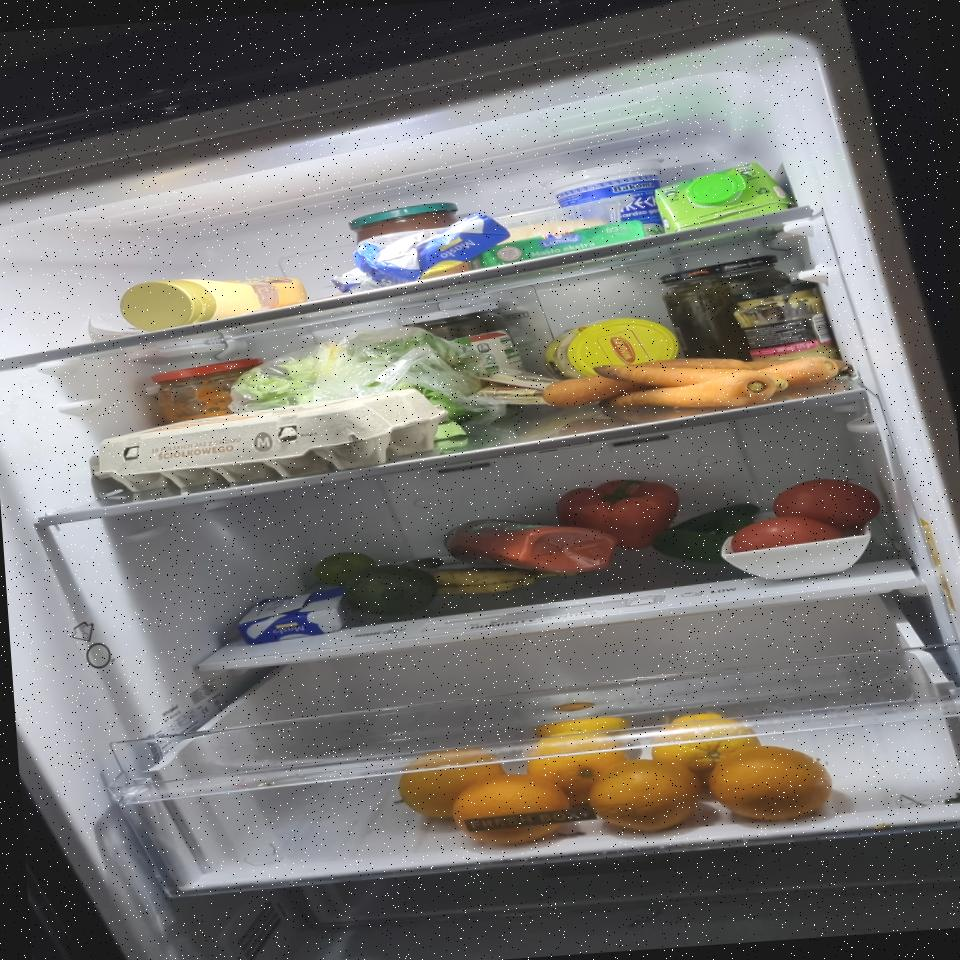Aguacate: (348, 560, 440, 618)
Carne pollo: (487, 194, 637, 245)
Huevos: (89, 386, 453, 494)
Lechuga/Endivia: (224, 320, 491, 454)
Mantequilla: (325, 211, 514, 295), (468, 220, 648, 272), (236, 588, 352, 646)
Pepino: (650, 502, 764, 565)
Plátano: (402, 547, 580, 599)
Tomate: (770, 476, 882, 534), (730, 512, 845, 554)
Yogur: (538, 158, 670, 246)
Zanahoria: (540, 346, 854, 420)
